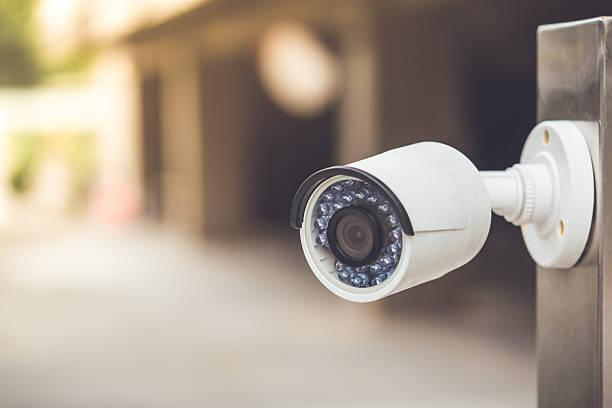camera: (241, 95, 520, 365)
